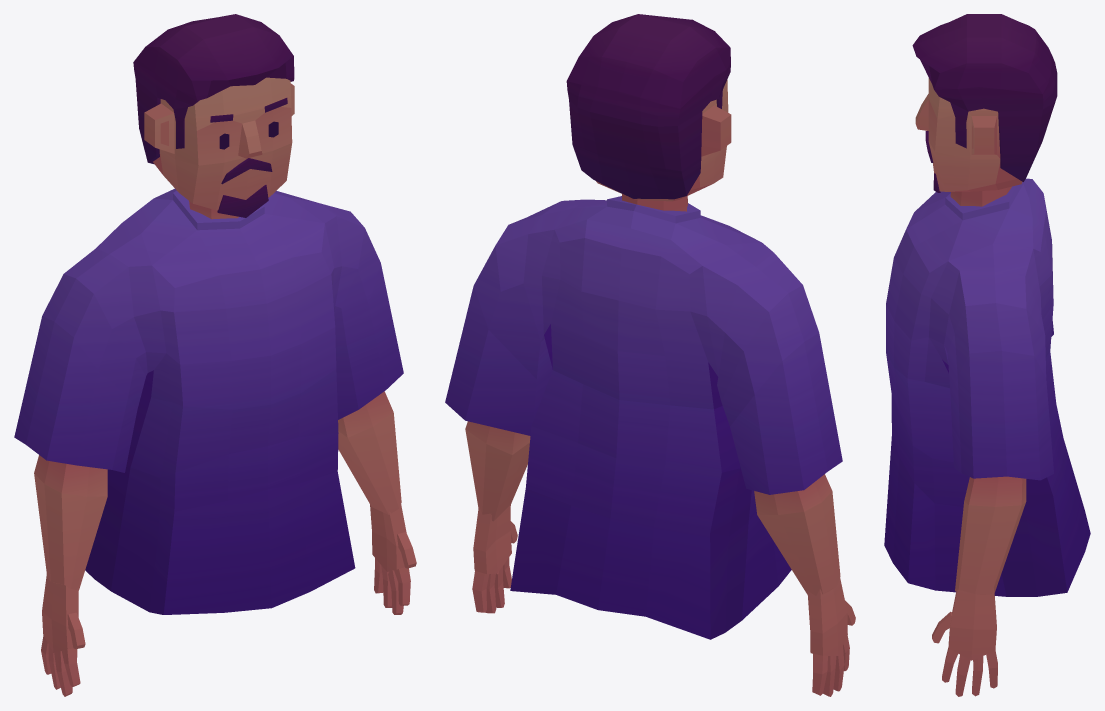
File: Boy_Blue.glb
The picture shows the model from 3 angles, left to right: view 1: azimuth 30°, elevation 25°; view 2: azimuth 150°, elevation 25°; view 3: azimuth 270°, elevation 25°; orthographic projection. The views are drawn at different scales.
Parts seen in each view (by area): view 1: Boy_Blue; view 2: Boy_Blue; view 3: Boy_Blue.
Boxes of the visible parts, bbox=[...] form: Boy_Blue: bbox=[14, 14, 416, 696]; Boy_Blue: bbox=[445, 14, 855, 696]; Boy_Blue: bbox=[884, 14, 1090, 696].
Bounding box in the file's own units: 2.43 × 3.95 × 1.25.
Materials: 1 (1 with a texture image).
